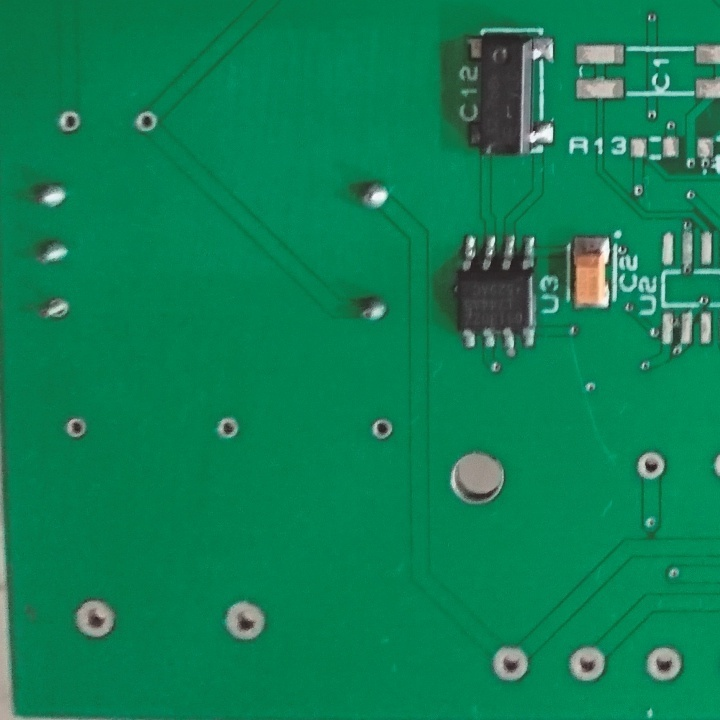F: (219, 596, 270, 643), (70, 595, 119, 642), (564, 643, 612, 686), (489, 641, 533, 686), (639, 644, 686, 684), (630, 448, 668, 483), (38, 295, 70, 324), (56, 107, 84, 137), (131, 109, 159, 136), (214, 415, 239, 445), (369, 414, 394, 441), (64, 415, 87, 440)
